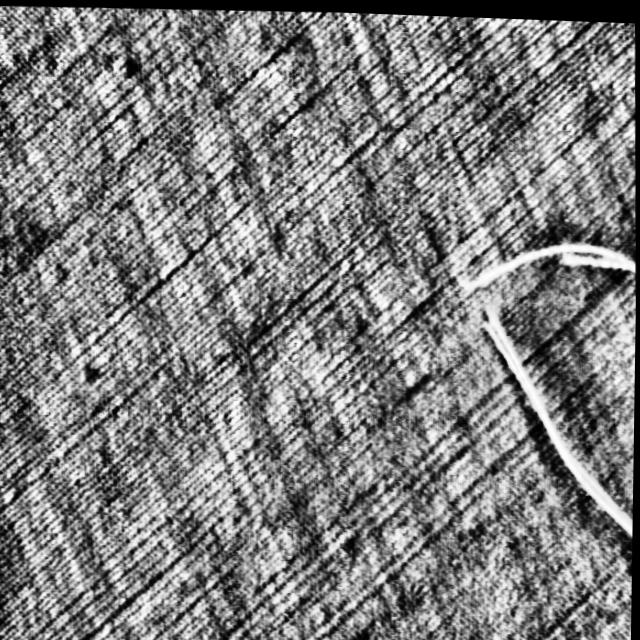Stitch: (450, 203, 638, 569)
